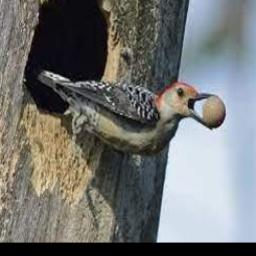Woodpecker: (38, 68, 218, 157)
